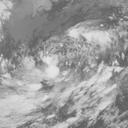cyclone: (2, 24, 113, 127)
